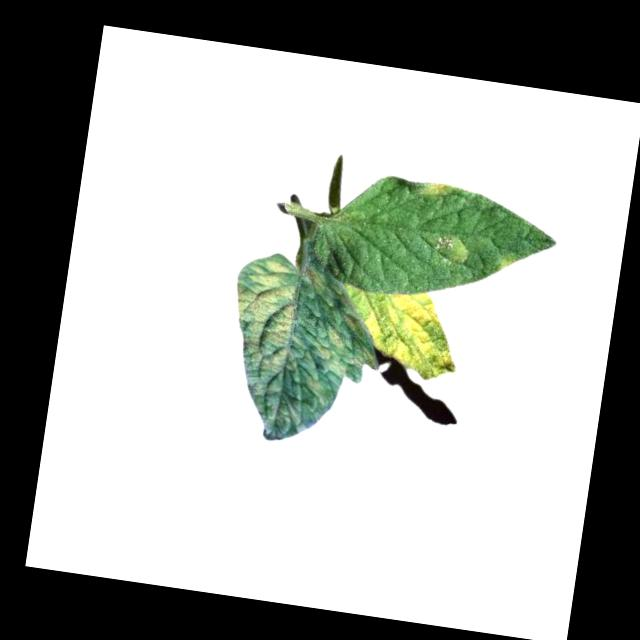Leaf_Mold: (355, 284, 467, 385), (219, 253, 302, 377), (282, 311, 383, 412), (425, 230, 471, 264), (298, 263, 327, 296), (415, 179, 450, 201), (493, 248, 521, 275)
